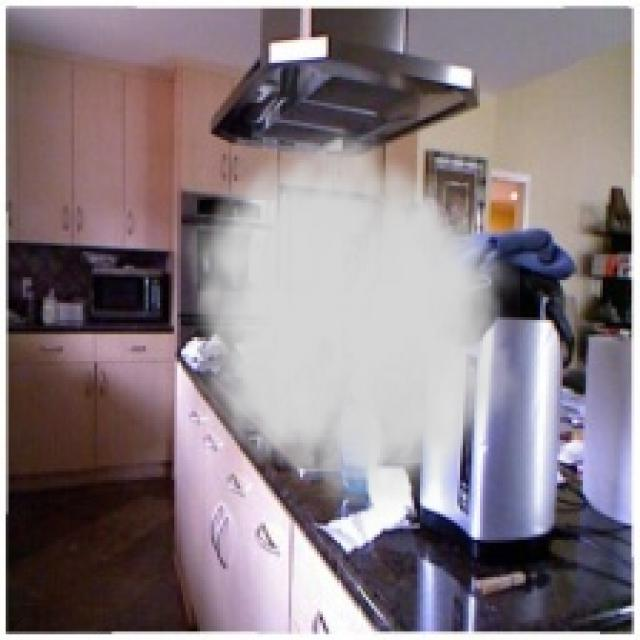smoke: (171, 114, 520, 529)
